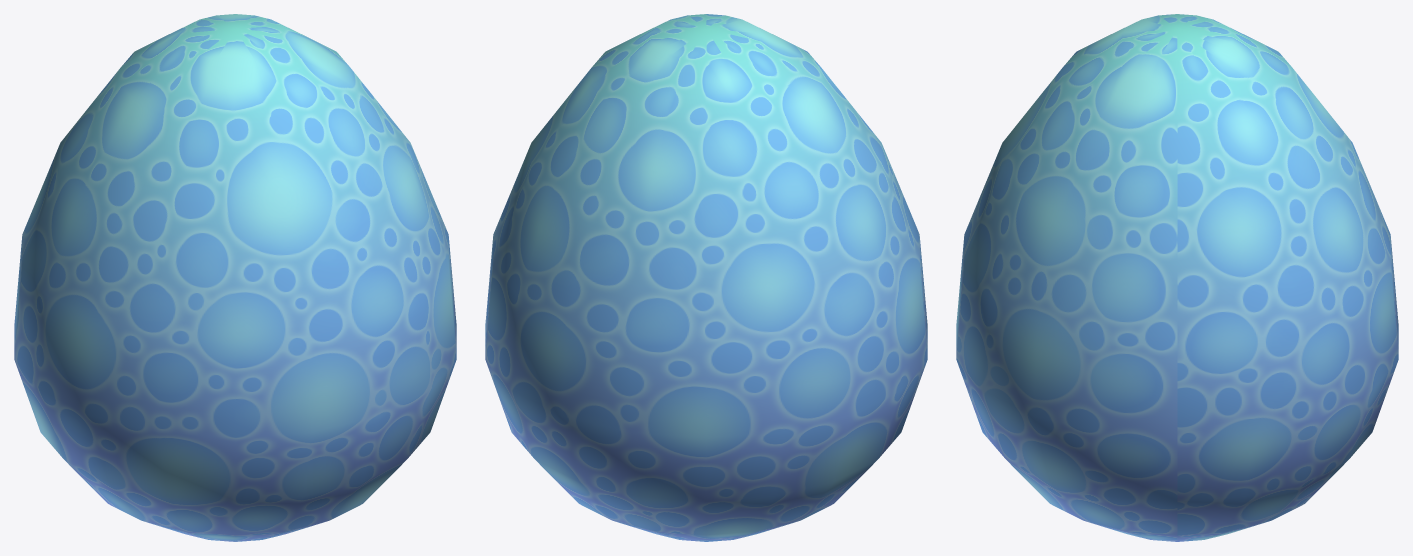
Rendered from Egg_Tb.fbx.
3 renders of one model, left to right at view 1: azimuth 30°, elevation 25°; view 2: azimuth 150°, elevation 25°; view 3: azimuth 270°, elevation 25°, orthographic.
Visible parts, largest first — view 1: Egg_TB; view 2: Egg_TB; view 3: Egg_TB.
Part boxes in pixels (x1,y1,x2,y2): Egg_TB: (14,14,456,541); Egg_TB: (485,14,927,541); Egg_TB: (956,14,1398,541).
Bounding box in the file's own units: 93.54 × 113 × 92.11.
1 material, 1 textured.
